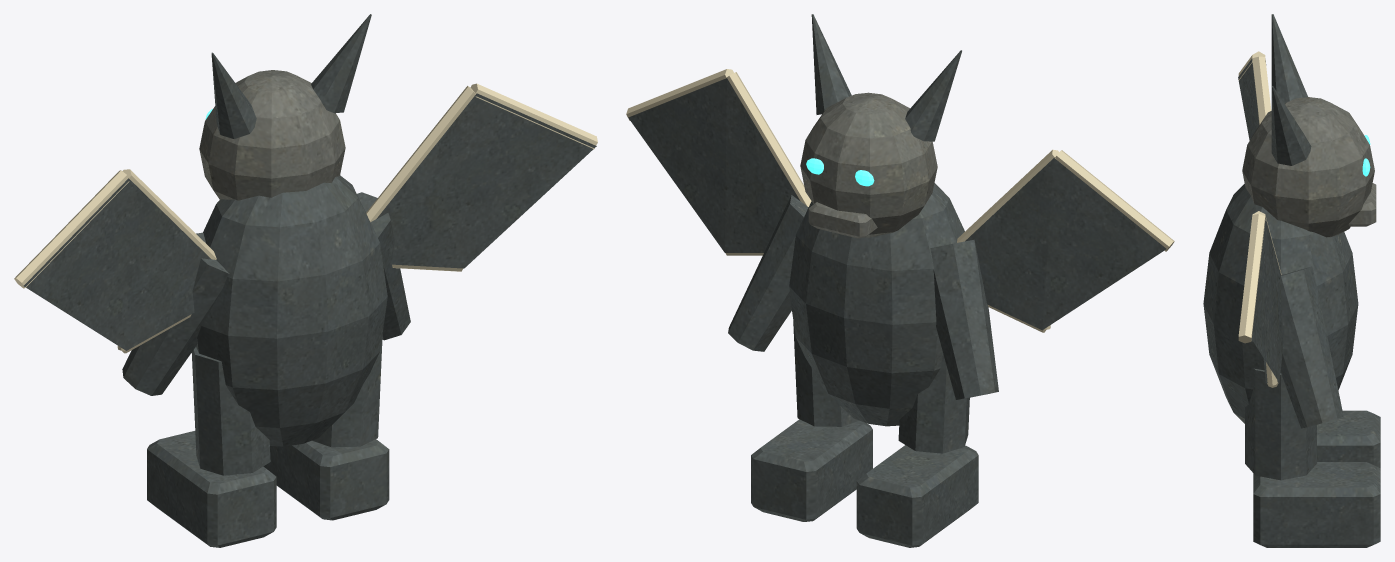
The model's file is source.glb.
3 renders of one model, left to right at view 1: azimuth 30°, elevation 25°; view 2: azimuth 150°, elevation 25°; view 3: azimuth 270°, elevation 25°, orthographic. The views are drawn at different scales.
Parts seen in each view (by area): view 1: body; view 2: body; view 3: body.
Part boxes in pixels (bbox=[...]): body: bbox=[14, 14, 597, 547]; body: bbox=[626, 14, 1174, 547]; body: bbox=[1203, 14, 1380, 547].
Size of the model in its own units: 2.27 by 1.83 by 0.64.
4 materials, 2 textured.
